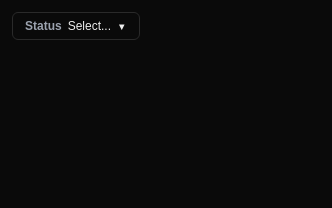
Test: FilterDropdown › Dropdown Menu › should hide menu when button is clicked again
Step 1. Click the button → coordinates (76, 26), box top-left (12, 12), bottom-right (140, 40)
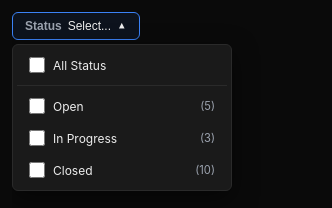
Expected: the text "All Status" is shown, top-left (53, 58), bottom-right (106, 72)
Step 2. Click the button → coordinates (76, 26), box top-left (12, 12), bottom-right (140, 40)
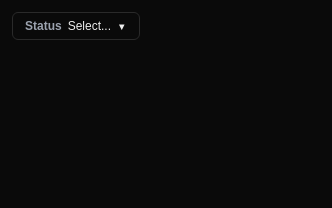
Expected: the option "All Status" is gone
